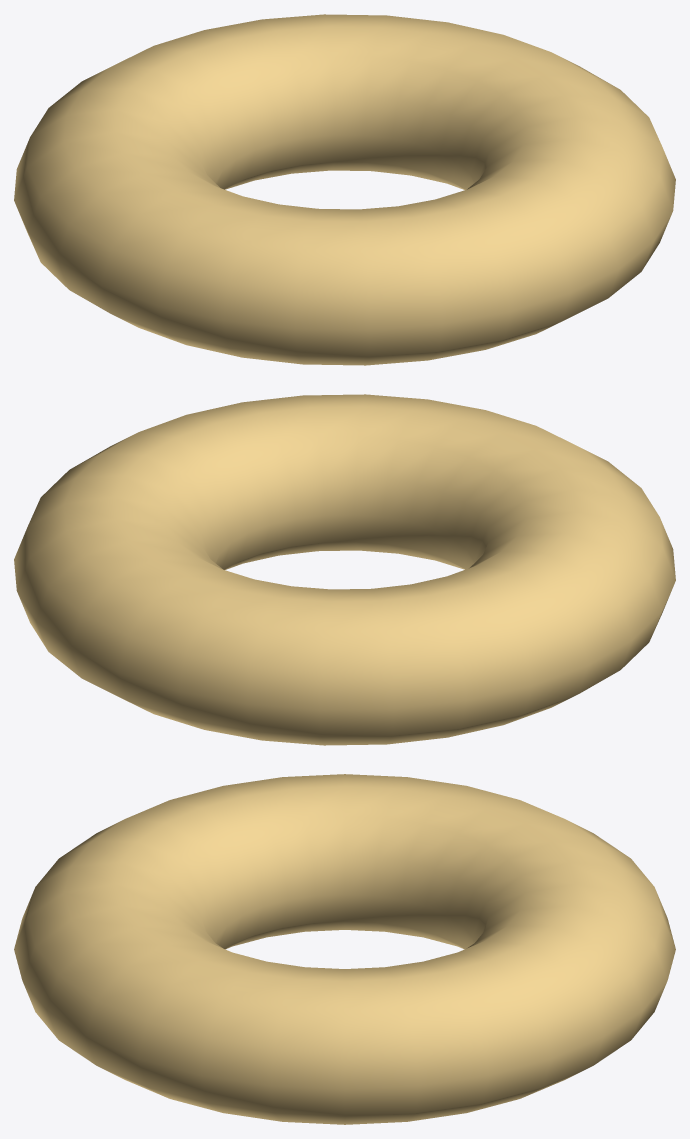
Rendered from bagel.glb.
3 renders of one model, top to bottom at view 1: azimuth 30°, elevation 25°; view 2: azimuth 150°, elevation 25°; view 3: azimuth 270°, elevation 25°, orthographic.
Bounding box in the file's own units: 1.32 × 0.288 × 1.32.
